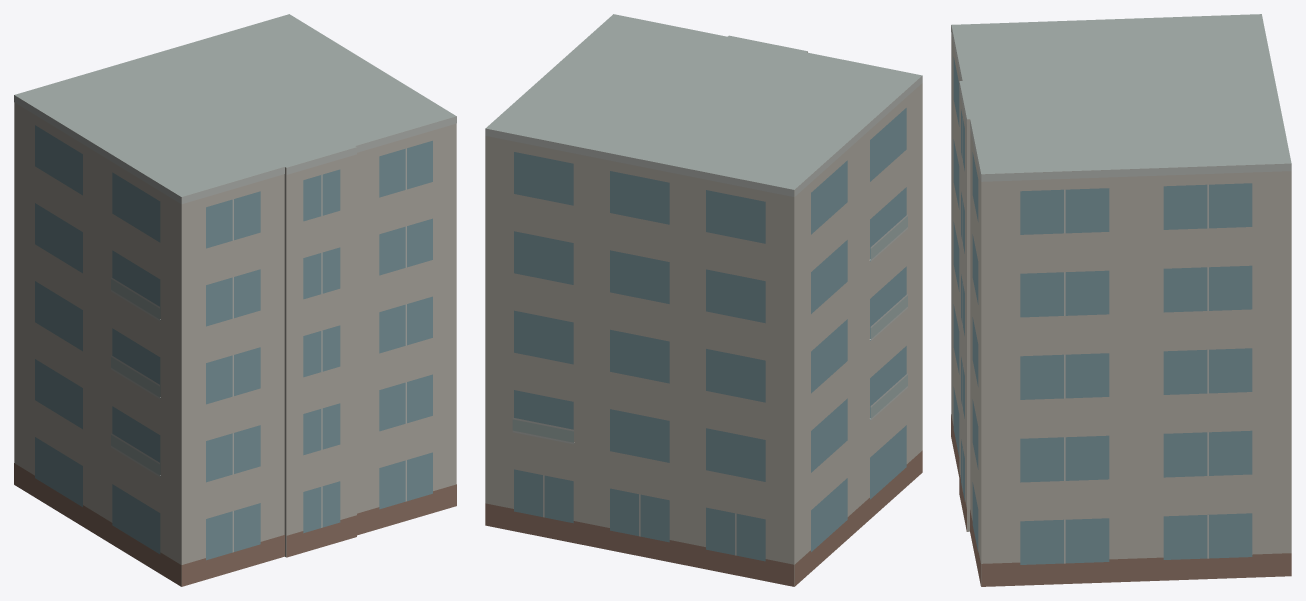
File: survey-upis-32539542.glb
3 views of the same model, side by side, from view 1: azimuth 30°, elevation 25°; view 2: azimuth 150°, elevation 25°; view 3: azimuth 270°, elevation 25° (orthographic). The views are drawn at different scales.
Visible parts, largest first — view 1: survey-upis-32539542.tmp; view 2: survey-upis-32539542.tmp; view 3: survey-upis-32539542.tmp.
Part boxes in pixels (x1,y1,x2,y2): survey-upis-32539542.tmp: [14, 14, 456, 586]; survey-upis-32539542.tmp: [485, 14, 922, 586]; survey-upis-32539542.tmp: [951, 14, 1291, 586].
Bounding box in the file's own units: 11 × 13.2 × 9.88.
